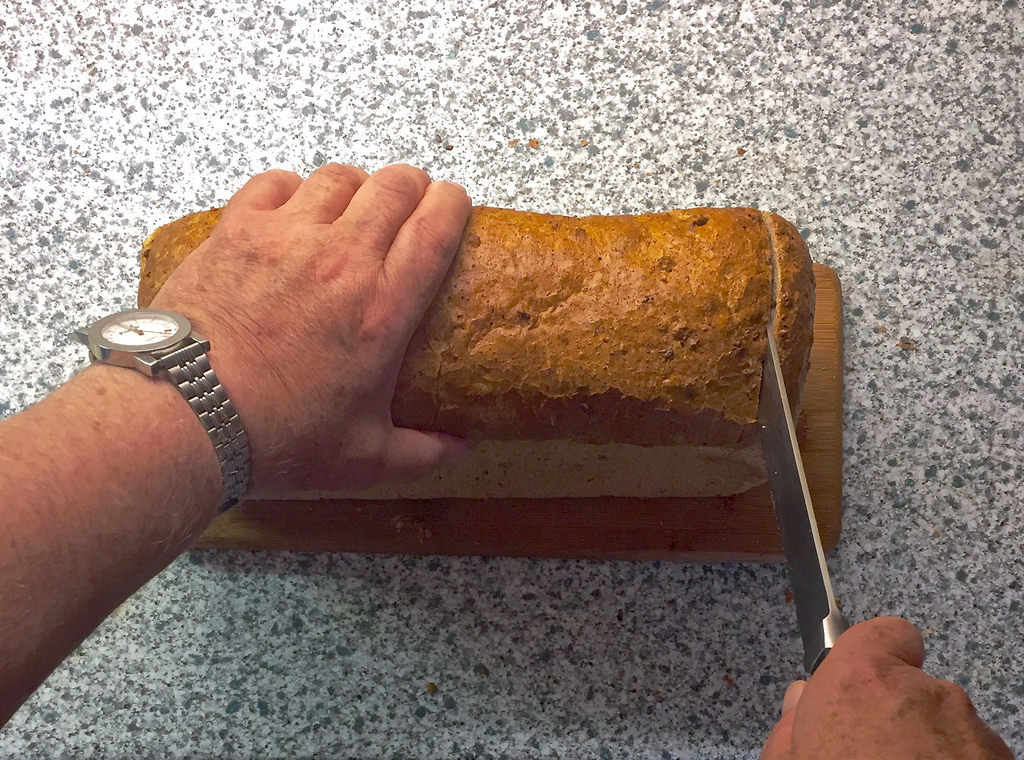slice of bread: (470, 208, 793, 498)
